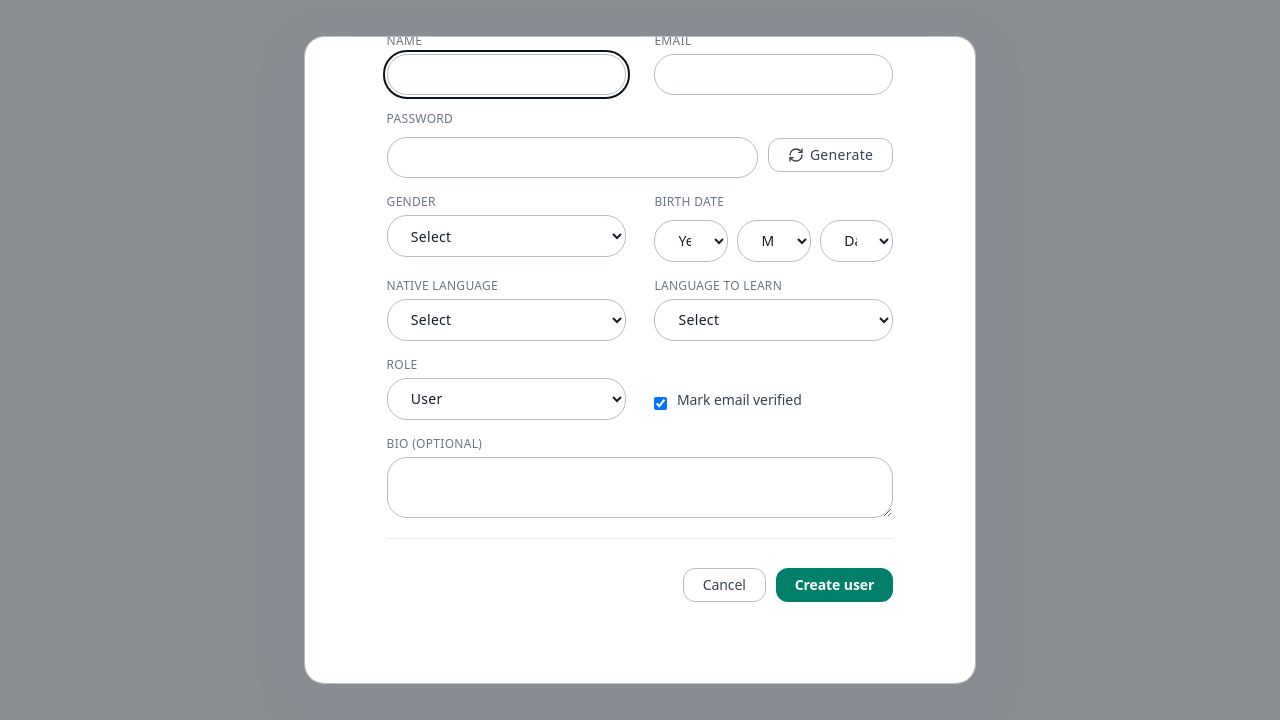
Test: refuses to send an empty form and says which fields are missing
(page scrolled)
Click the button with test id "register-user-submit". click: (834, 585)
box: [776,568,893,602]
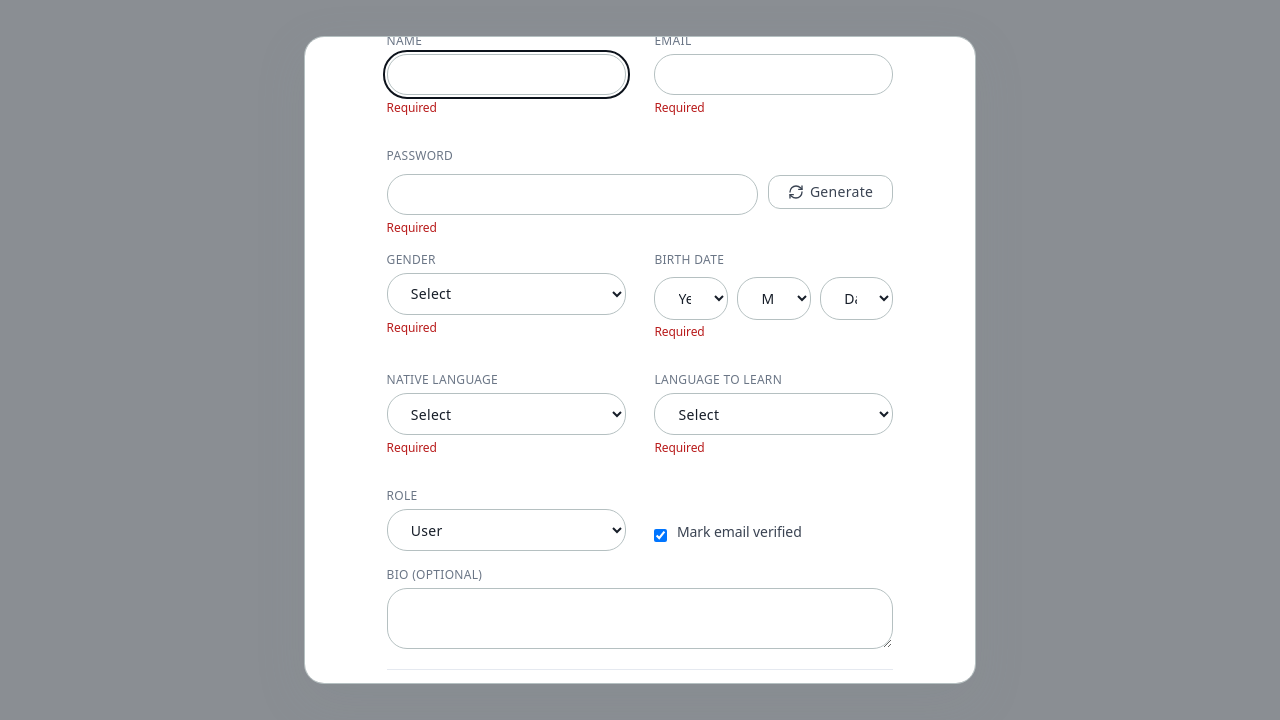
Expected: the text with test id "register-user-error-name" is shown, [387,99,437,116]
Expected: the text with test id "register-user-error-email" is shown, [654,99,705,116]
Expected: the text with test id "register-user-error-password" is shown, [387,219,437,236]
